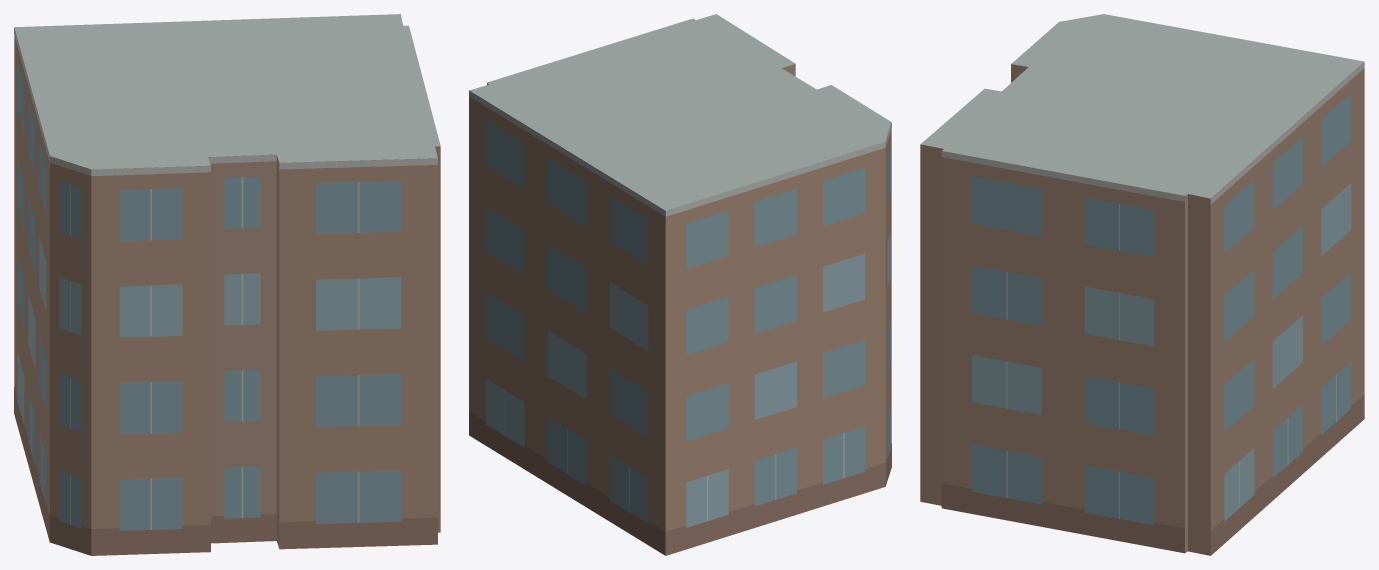
Rendered from survey-upis-32680850.glb.
3 renders of one model, left to right at view 1: azimuth 30°, elevation 25°; view 2: azimuth 150°, elevation 25°; view 3: azimuth 270°, elevation 25°, orthographic. The views are drawn at different scales.
Visible parts, largest first — view 1: survey-upis-32680850.tmp; view 2: survey-upis-32680850.tmp; view 3: survey-upis-32680850.tmp.
Boxes of the visible parts, x1,y1,x2,y2 form: survey-upis-32680850.tmp: [14, 14, 440, 555]; survey-upis-32680850.tmp: [469, 14, 891, 555]; survey-upis-32680850.tmp: [920, 14, 1364, 555].
Size of the model in its own units: 15.62 by 14.1 by 15.9.
